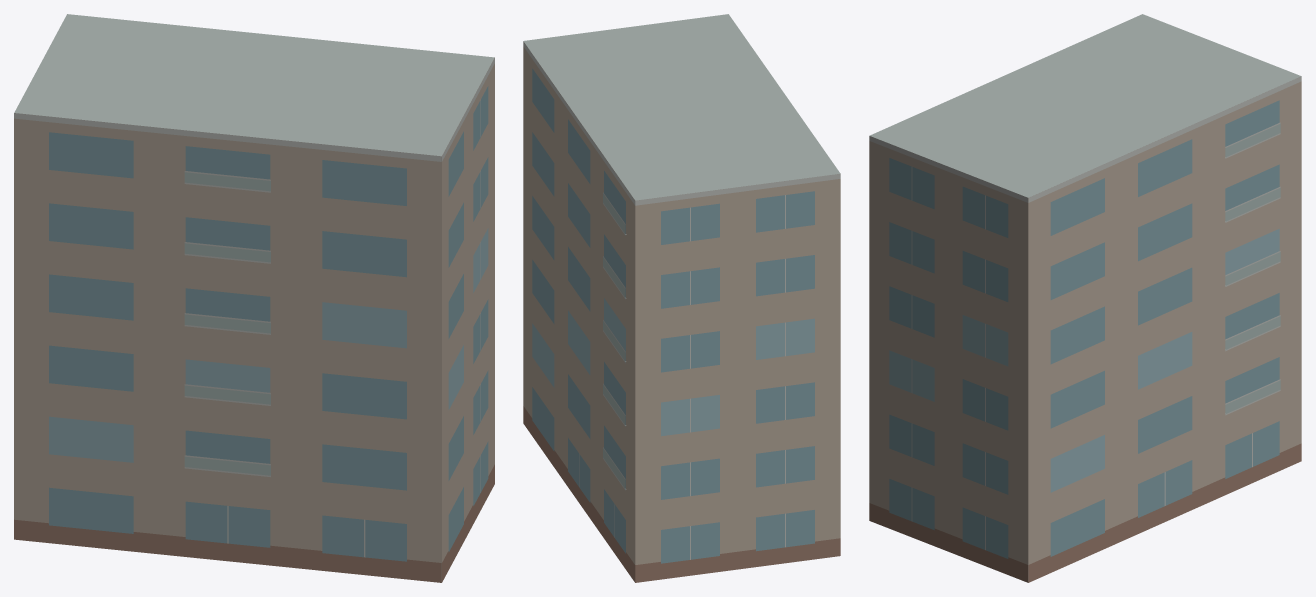
The model's file is survey-upis-32518212.glb.
3 views of the same model, side by side, from view 1: azimuth 30°, elevation 25°; view 2: azimuth 150°, elevation 25°; view 3: azimuth 270°, elevation 25° (orthographic). The views are drawn at different scales.
Visible parts, largest first — view 1: survey-upis-32518212.tmp; view 2: survey-upis-32518212.tmp; view 3: survey-upis-32518212.tmp.
Boxes of the visible parts, bbox=[...] form: survey-upis-32518212.tmp: bbox=[14, 14, 494, 582]; survey-upis-32518212.tmp: bbox=[523, 14, 840, 582]; survey-upis-32518212.tmp: bbox=[869, 14, 1301, 582].
Size of the model in its own units: 18.75 by 18.3 by 18.62.
